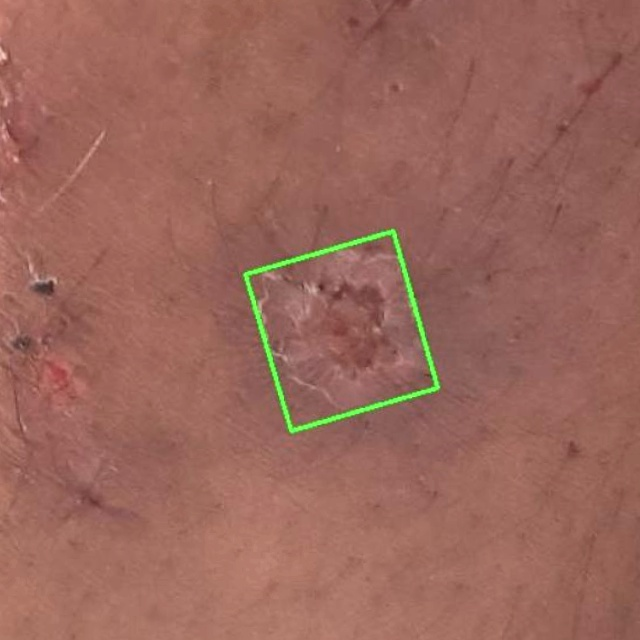Eczema: (246, 231, 439, 431)
